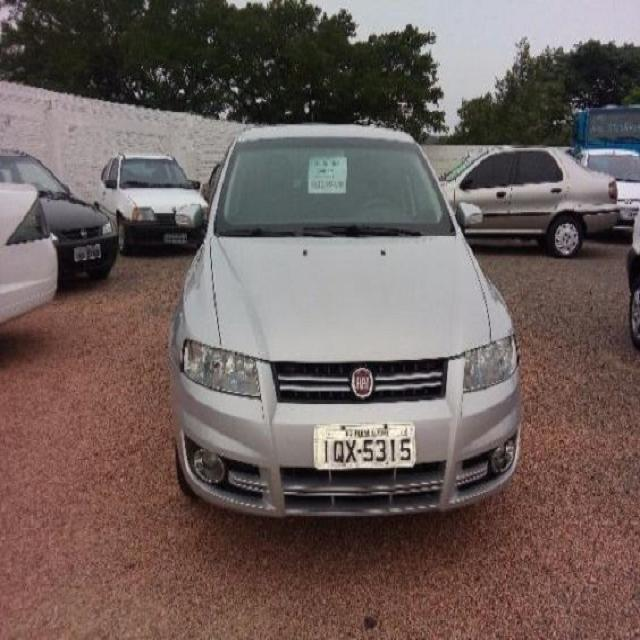Placa: (311, 420, 417, 473)
